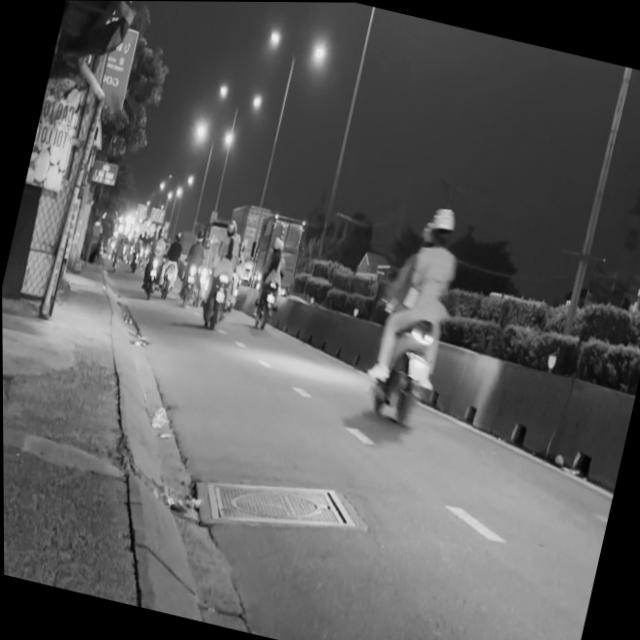helmet: (423, 201, 460, 249)
licenseplate: (356, 194, 477, 433)
nohelmet: (404, 357, 430, 381)
